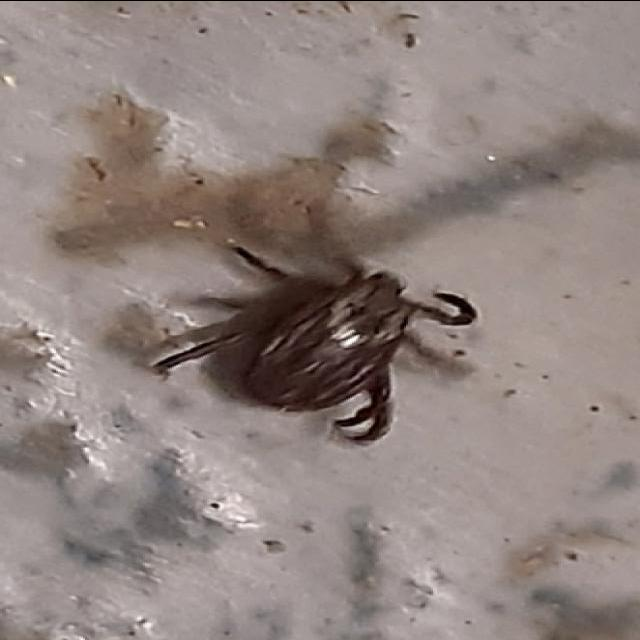Dermacentor Reticulatus-F: (141, 246, 476, 447)
